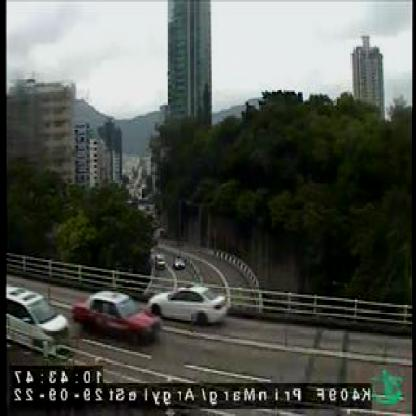Car: (3, 277, 70, 357), (72, 286, 158, 343), (147, 283, 233, 324), (173, 254, 188, 275), (156, 250, 166, 268)
